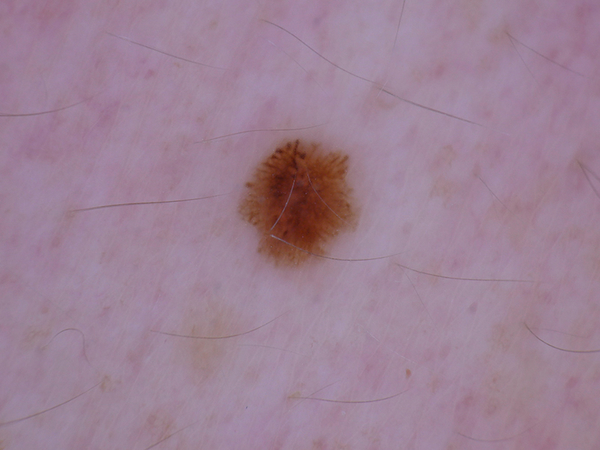Detected Lesion: (229, 137, 374, 275)
